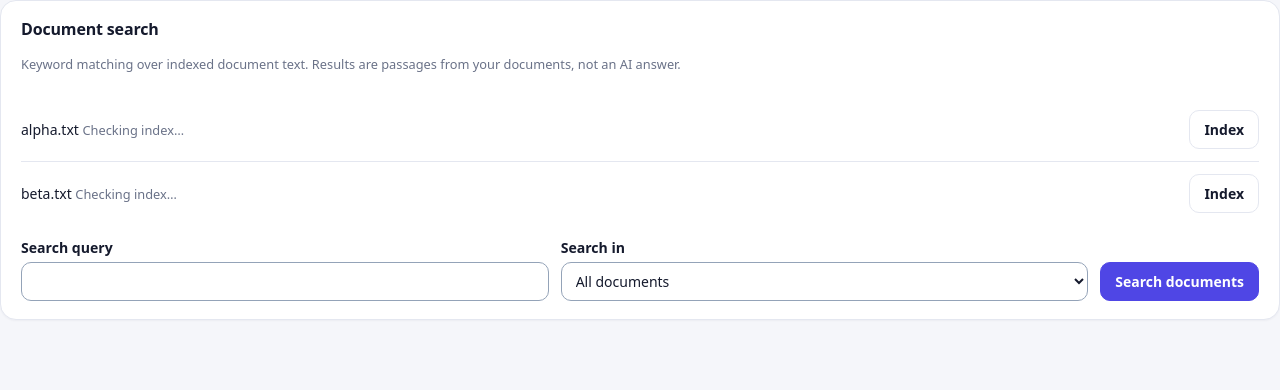
Test case: DocumentSearch › shows an indexing error
The width and height of the screenshot is (1280, 390).
Click the button with aria-label "Index alpha.txt".
click(1224, 130)  # box left=1189, top=110, right=1259, bottom=149
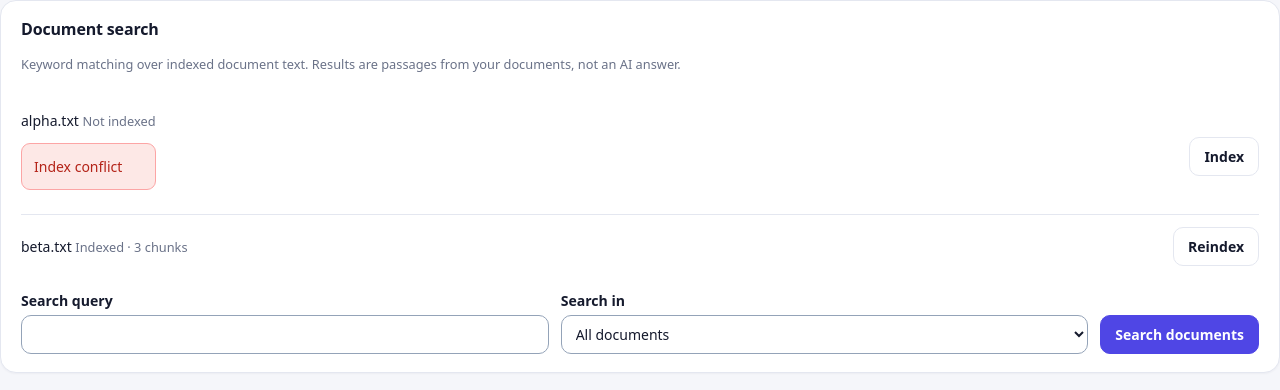
Check: the message reads "Index conflict", box left=34, top=157, right=122, bottom=176
